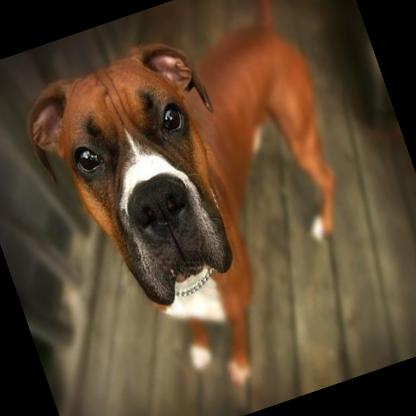boxer: (4, 0, 400, 416)
